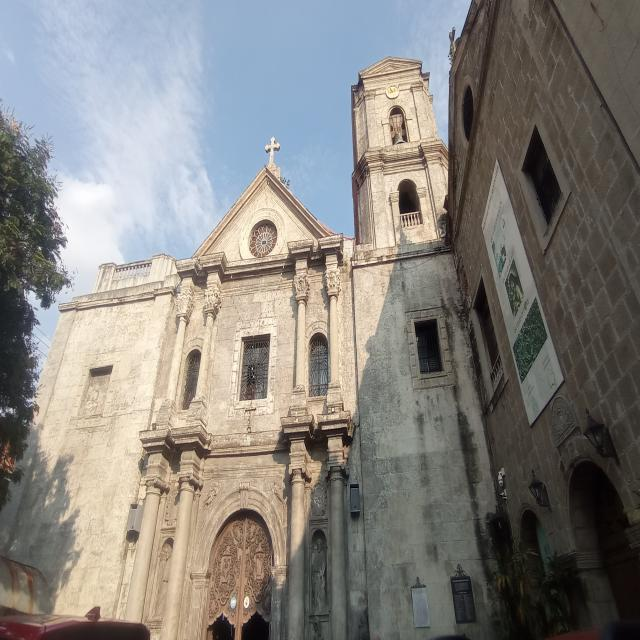San Agustin Church: (55, 39, 512, 640)
